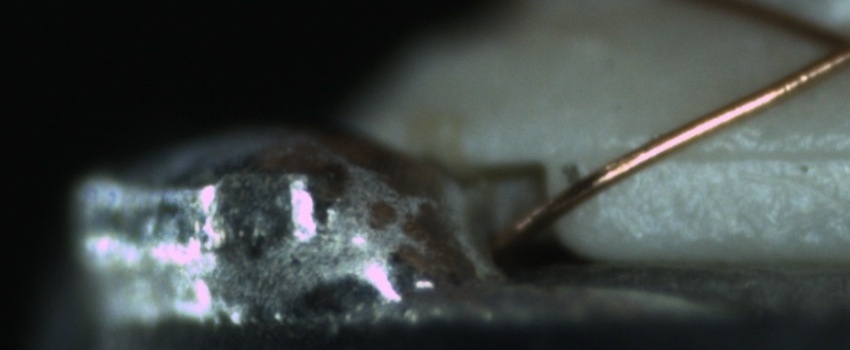CL: (801, 11, 850, 78)
DL: (671, 120, 849, 188)
